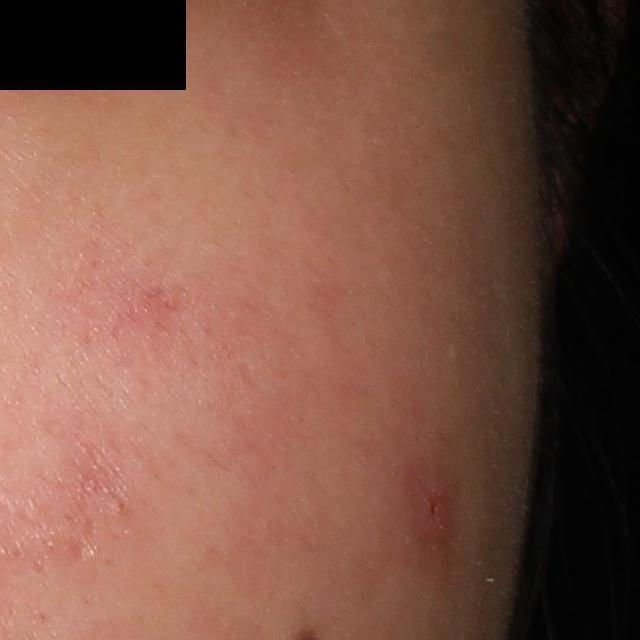papule: (412, 473, 452, 536)
